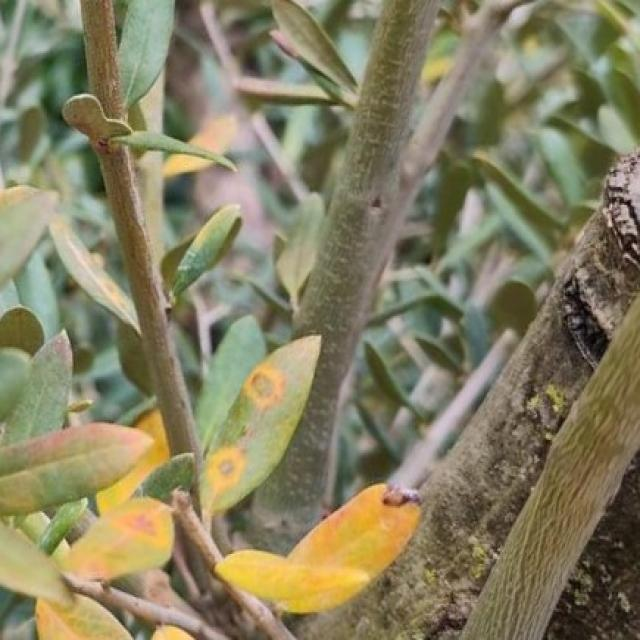Peacock Eye: (205, 336, 319, 514), (0, 423, 152, 513), (288, 485, 418, 576), (63, 499, 172, 580), (215, 549, 371, 600), (172, 205, 241, 294)
